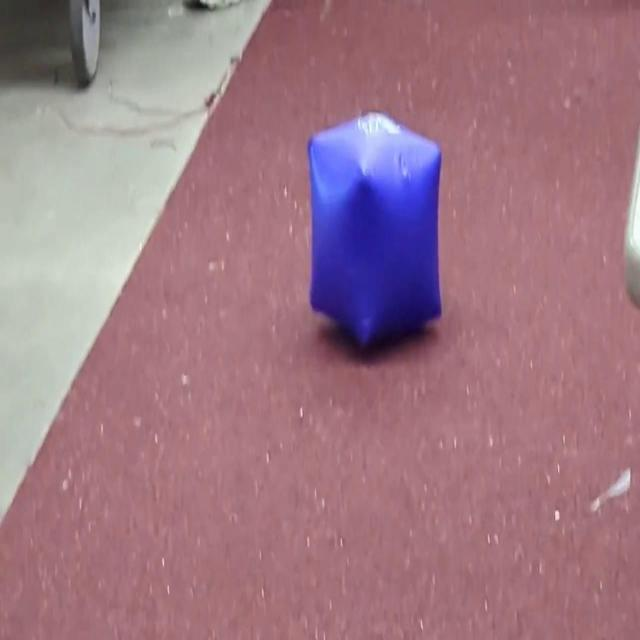frc_cube: (306, 100, 443, 352)
